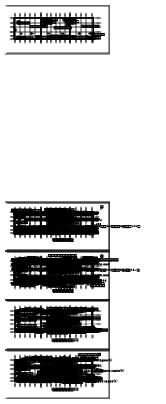door: (82, 190, 85, 192), (138, 171, 141, 173), (138, 170, 141, 172), (18, 119, 21, 121), (138, 69, 141, 71), (138, 70, 141, 72), (69, 171, 71, 173), (69, 170, 71, 172), (90, 171, 92, 173), (90, 170, 92, 172), (78, 190, 80, 192), (76, 190, 78, 192), (81, 190, 83, 192), (69, 70, 71, 72), (90, 70, 92, 72), (18, 170, 21, 171), (138, 121, 141, 122), (18, 69, 21, 70), (20, 170, 22, 171), (69, 121, 71, 122), (90, 121, 92, 122), (69, 69, 71, 70), (90, 69, 92, 70), (20, 69, 22, 70), (119, 137, 119, 138)
room: (136, 118, 143, 142), (14, 119, 24, 123), (72, 73, 75, 85), (68, 118, 74, 123), (77, 118, 83, 123), (66, 141, 75, 143), (122, 141, 128, 144), (85, 141, 94, 143), (33, 141, 38, 144), (73, 168, 78, 170), (24, 168, 28, 170), (133, 168, 137, 170), (83, 168, 87, 170), (19, 117, 23, 119), (138, 117, 142, 119), (105, 141, 111, 142), (25, 141, 30, 142), (50, 141, 55, 142), (131, 141, 136, 142), (68, 192, 72, 193), (89, 192, 93, 193), (90, 120, 92, 122), (90, 69, 92, 71), (90, 73, 92, 75), (82, 73, 84, 75), (77, 73, 79, 75), (99, 33, 101, 35), (99, 31, 101, 33), (74, 128, 76, 130), (81, 128, 83, 130), (26, 175, 29, 176), (29, 175, 32, 176), (32, 175, 35, 176), (43, 175, 46, 176), (46, 175, 49, 176), (49, 175, 52, 176), (26, 188, 29, 189), (29, 188, 32, 189), (32, 188, 35, 189), (43, 188, 46, 189), (46, 188, 49, 189), (49, 188, 52, 189), (129, 175, 132, 176), (126, 175, 129, 176), (123, 175, 126, 176), (114, 175, 117, 176), (109, 175, 112, 176), (106, 175, 109, 176), (129, 188, 132, 189), (126, 188, 129, 189), (123, 188, 126, 189), (114, 188, 117, 189), (109, 188, 112, 189), (106, 188, 109, 189), (73, 192, 76, 193), (36, 169, 39, 170), (40, 169, 43, 170), (87, 169, 90, 170), (77, 190, 80, 191), (81, 190, 84, 191), (19, 120, 22, 121), (67, 138, 70, 139), (91, 138, 94, 139), (16, 89, 19, 90), (35, 175, 37, 176), (52, 175, 54, 176), (35, 188, 37, 189), (52, 188, 54, 189), (16, 175, 18, 176), (18, 175, 20, 176), (16, 185, 18, 186), (18, 185, 20, 186), (132, 175, 134, 176), (112, 175, 114, 176), (132, 188, 134, 189), (112, 188, 114, 189), (69, 175, 71, 176), (76, 175, 78, 176), (63, 36, 65, 37), (61, 36, 63, 37), (95, 36, 97, 37), (97, 36, 99, 37), (99, 36, 101, 37), (83, 74, 85, 75), (76, 74, 78, 75), (71, 74, 73, 75), (74, 74, 76, 75), (69, 74, 71, 75), (59, 382, 60, 384), (101, 382, 102, 384), (19, 369, 21, 370), (90, 370, 92, 371), (85, 192, 87, 193), (14, 189, 15, 191), (71, 169, 73, 170), (78, 169, 80, 170), (67, 87, 68, 89), (70, 87, 71, 89), (93, 87, 94, 89), (90, 87, 91, 89), (90, 171, 92, 172), (19, 170, 21, 171), (69, 120, 70, 122), (139, 120, 140, 122), (41, 120, 42, 122), (69, 69, 70, 71), (20, 69, 22, 70), (139, 69, 140, 71), (41, 69, 42, 71), (69, 73, 70, 75), (81, 76, 83, 77), (81, 77, 83, 78), (81, 78, 83, 79), (81, 79, 83, 80), (81, 80, 83, 81), (74, 76, 76, 77), (74, 77, 76, 78), (74, 78, 76, 79), (74, 79, 76, 80), (74, 80, 76, 81), (74, 81, 76, 82), (67, 76, 69, 77), (67, 77, 69, 78), (67, 78, 69, 79), (67, 79, 69, 80), (67, 81, 69, 82), (67, 80, 69, 81), (74, 82, 76, 83), (88, 76, 90, 77), (88, 77, 90, 78), (88, 78, 90, 79), (88, 79, 90, 80), (88, 81, 90, 82), (88, 80, 90, 81), (64, 33, 65, 35), (60, 33, 61, 35), (64, 31, 65, 33), (60, 31, 61, 33), (96, 33, 97, 35), (96, 31, 97, 33), (78, 128, 79, 130), (85, 128, 86, 130), (89, 132, 90, 134), (81, 179, 83, 180), (81, 178, 83, 179), (74, 179, 76, 180), (74, 178, 76, 179), (73, 175, 75, 176), (89, 175, 91, 176), (83, 175, 85, 176), (85, 175, 87, 176), (89, 136, 91, 137), (82, 136, 84, 137), (91, 136, 93, 137), (70, 136, 72, 137), (76, 136, 78, 137), (68, 136, 70, 137), (80, 137, 82, 138), (80, 187, 82, 188), (33, 171, 34, 172), (33, 170, 34, 171), (48, 171, 49, 172), (48, 170, 49, 171), (127, 171, 128, 172), (127, 170, 128, 171), (111, 171, 112, 172), (111, 170, 112, 171), (98, 175, 99, 176), (99, 175, 100, 176), (48, 121, 49, 122), (48, 120, 49, 121), (111, 121, 112, 122), (111, 120, 112, 121), (17, 132, 18, 133), (18, 132, 19, 133), (62, 175, 63, 176), (61, 175, 62, 176), (90, 74, 91, 75), (85, 74, 86, 75), (60, 36, 61, 37), (88, 74, 89, 75), (59, 386, 60, 387), (101, 386, 102, 387), (23, 384, 24, 385), (49, 370, 50, 371), (77, 369, 78, 370), (89, 374, 90, 375), (139, 370, 140, 371), (69, 370, 70, 371), (69, 171, 70, 172), (139, 171, 140, 172), (78, 76, 79, 77), (78, 77, 79, 78), (78, 78, 79, 79), (78, 79, 79, 80), (78, 80, 79, 81), (85, 76, 86, 77), (85, 77, 86, 78), (85, 78, 86, 79), (85, 79, 86, 80), (85, 80, 86, 81), (85, 81, 86, 82), (71, 76, 72, 77), (71, 77, 72, 78), (71, 78, 72, 79), (71, 79, 72, 80), (71, 81, 72, 82), (71, 80, 72, 81), (92, 76, 93, 77), (92, 77, 93, 78), (92, 78, 93, 79), (92, 79, 93, 80), (92, 81, 93, 82), (92, 80, 93, 81), (67, 28, 68, 29), (67, 27, 68, 28), (67, 31, 68, 32), (92, 28, 93, 29), (92, 27, 93, 28), (92, 31, 93, 32), (85, 82, 86, 83), (78, 130, 79, 131), (71, 131, 72, 132), (71, 130, 72, 131), (71, 129, 72, 130), (71, 134, 72, 135), (71, 133, 72, 134), (75, 130, 76, 131), (68, 131, 69, 132), (68, 130, 69, 131), (68, 129, 69, 130), (68, 134, 69, 135), (68, 133, 69, 134), (82, 130, 83, 131), (85, 130, 86, 131), (89, 131, 90, 132), (89, 130, 90, 131), (89, 128, 90, 129), (89, 127, 90, 128), (78, 179, 79, 180), (78, 180, 79, 181), (78, 178, 79, 179), (71, 182, 72, 183), (71, 181, 72, 182), (71, 180, 72, 181), (71, 185, 72, 186), (71, 184, 72, 185), (82, 180, 83, 181), (75, 180, 76, 181), (68, 182, 69, 183), (68, 181, 69, 182), (68, 180, 69, 181), (68, 185, 69, 186), (68, 184, 69, 185), (85, 179, 86, 180), (85, 180, 86, 181), (85, 178, 86, 179), (89, 181, 90, 182), (89, 182, 90, 183), (89, 183, 90, 184), (89, 178, 90, 179), (89, 179, 90, 180), (79, 137, 80, 138), (79, 187, 80, 188), (26, 125, 29, 125), (29, 125, 32, 125), (32, 125, 35, 125), (35, 125, 37, 125), (43, 125, 46, 125), (46, 125, 49, 125), (49, 125, 52, 125), (52, 125, 54, 125), (26, 138, 29, 138), (29, 138, 32, 138), (32, 138, 35, 138), (35, 138, 37, 138), (43, 138, 46, 138), (46, 138, 49, 138), (49, 138, 52, 138), (52, 138, 54, 138), (132, 125, 134, 125), (129, 125, 132, 125), (126, 125, 129, 125), (123, 125, 126, 125), (114, 125, 117, 125), (112, 125, 114, 125), (109, 125, 112, 125), (106, 125, 109, 125), (132, 138, 134, 138), (129, 138, 132, 138), (126, 138, 129, 138), (123, 138, 126, 138), (114, 138, 117, 138), (112, 138, 114, 138), (109, 138, 112, 138), (106, 138, 109, 138), (89, 187, 91, 187), (82, 187, 84, 187), (62, 125, 63, 125), (61, 125, 62, 125), (98, 125, 99, 125), (99, 125, 100, 125), (62, 24, 63, 24), (61, 24, 62, 24), (75, 24, 77, 24), (71, 24, 73, 24), (96, 24, 97, 24), (97, 24, 98, 24), (84, 24, 86, 24), (87, 24, 90, 24), (111, 370, 111, 371), (138, 369, 138, 370), (138, 374, 138, 375), (71, 374, 71, 375), (17, 140, 20, 140), (68, 88, 70, 88), (90, 88, 93, 88), (78, 77, 79, 77), (78, 78, 79, 78), (78, 79, 79, 79), (78, 80, 79, 80), (81, 77, 83, 77), (81, 78, 83, 78), (81, 79, 83, 79), (81, 80, 83, 80), (74, 77, 76, 77), (74, 78, 76, 78), (74, 79, 76, 79), (74, 80, 76, 80), (74, 81, 76, 81), (74, 82, 76, 82), (74, 83, 76, 83), (85, 77, 86, 77), (85, 78, 86, 78), (85, 79, 86, 79), (85, 80, 86, 80), (85, 81, 86, 81), (85, 82, 86, 82), (85, 83, 86, 83), (67, 77, 69, 77), (67, 78, 69, 78), (67, 79, 69, 79), (67, 80, 69, 80), (71, 77, 72, 77), (71, 78, 72, 78), (71, 79, 72, 79), (71, 80, 72, 80), (67, 81, 69, 81), (71, 81, 72, 81), (92, 77, 93, 77), (92, 78, 93, 78), (92, 79, 93, 79), (92, 80, 93, 80), (88, 77, 90, 77), (88, 78, 90, 78), (88, 79, 90, 79), (88, 80, 90, 80), (92, 81, 93, 81), (88, 81, 90, 81), (67, 32, 68, 32), (92, 32, 93, 32), (78, 81, 79, 81), (81, 81, 83, 81), (78, 130, 79, 130), (78, 128, 79, 128), (74, 128, 76, 128), (75, 130, 76, 130), (82, 130, 83, 130), (81, 128, 83, 128), (85, 128, 86, 128), (85, 130, 86, 130), (92, 132, 92, 134), (92, 131, 92, 132), (92, 130, 92, 131), (92, 128, 92, 129), (92, 127, 92, 128), (78, 181, 79, 181), (82, 181, 83, 181), (92, 181, 92, 182), (92, 182, 92, 183), (92, 183, 92, 184), (92, 178, 92, 179), (92, 179, 92, 180), (75, 181, 76, 181), (85, 181, 86, 181), (91, 187, 93, 187), (70, 187, 72, 187), (76, 187, 78, 187), (68, 187, 70, 187), (69, 125, 71, 125), (76, 125, 78, 125), (73, 125, 75, 125), (89, 125, 91, 125), (83, 125, 85, 125), (85, 125, 87, 125)
shaft: (26, 85, 57, 89), (109, 87, 138, 90), (103, 74, 109, 87), (23, 74, 26, 85), (105, 70, 116, 72), (57, 78, 59, 87), (52, 70, 60, 72), (60, 38, 66, 40), (36, 170, 47, 171), (26, 188, 37, 189), (95, 78, 96, 87), (16, 72, 17, 78), (42, 183, 43, 188), (47, 183, 48, 188), (51, 183, 52, 188), (55, 183, 56, 188), (55, 177, 56, 182), (104, 126, 105, 131), (121, 126, 122, 131), (38, 126, 39, 131), (24, 126, 25, 131), (119, 126, 120, 131), (136, 126, 137, 131), (41, 126, 42, 131), (55, 126, 56, 131), (123, 183, 124, 188), (127, 183, 128, 188), (132, 183, 133, 188), (136, 183, 137, 188), (136, 177, 137, 182), (32, 71, 37, 72), (16, 86, 21, 87), (121, 133, 122, 137), (136, 133, 137, 137), (38, 133, 39, 137), (24, 133, 25, 137), (41, 133, 42, 137), (55, 133, 56, 137), (17, 78, 21, 79), (24, 71, 28, 72), (95, 71, 99, 72), (132, 69, 133, 72), (37, 69, 38, 72), (32, 136, 34, 137), (23, 69, 24, 71), (16, 71, 18, 72), (31, 69, 32, 71), (58, 75, 59, 77), (57, 87, 58, 89), (118, 69, 119, 71), (137, 69, 138, 71), (95, 75, 96, 77), (33, 91, 34, 93), (71, 18, 72, 20), (89, 18, 90, 20), (48, 177, 49, 178), (31, 186, 32, 187), (31, 177, 32, 178), (127, 136, 128, 137), (130, 136, 131, 137), (29, 136, 30, 137), (46, 136, 47, 137), (50, 136, 51, 137), (128, 177, 129, 178), (112, 186, 113, 187), (112, 177, 113, 178), (42, 175, 43, 176), (68, 175, 69, 176), (135, 175, 136, 176), (118, 175, 119, 176), (140, 175, 141, 176), (42, 124, 43, 125), (68, 124, 69, 125), (63, 138, 64, 139), (96, 138, 97, 139), (135, 124, 136, 125), (118, 124, 119, 125), (20, 86, 21, 87), (68, 74, 69, 75), (71, 69, 72, 70), (66, 74, 67, 75), (89, 69, 90, 70), (28, 71, 29, 72), (51, 69, 52, 70), (44, 89, 45, 90), (95, 89, 96, 90), (129, 71, 130, 72), (104, 69, 105, 70), (63, 37, 64, 38), (96, 37, 97, 38), (66, 23, 67, 24), (48, 182, 49, 182), (31, 182, 32, 182), (113, 127, 114, 127), (110, 127, 111, 127), (127, 127, 128, 127), (130, 127, 131, 127), (32, 127, 34, 127), (29, 127, 30, 127), (46, 127, 47, 127), (50, 127, 51, 127), (128, 182, 129, 182), (112, 182, 113, 182), (25, 175, 25, 176), (63, 189, 64, 189), (96, 189, 97, 189), (92, 175, 92, 176), (25, 124, 25, 125), (92, 124, 92, 125), (140, 125, 141, 125), (60, 118, 60, 119), (63, 88, 64, 88), (96, 88, 97, 88), (94, 74, 94, 75), (92, 74, 92, 75), (21, 72, 21, 90), (16, 69, 16, 71), (43, 69, 43, 72), (61, 73, 61, 75), (59, 87, 66, 87), (60, 87, 60, 89), (62, 87, 62, 89), (65, 87, 65, 88), (45, 90, 66, 90), (138, 71, 138, 72), (96, 87, 103, 87), (95, 73, 95, 75), (95, 72, 95, 73), (95, 69, 95, 71), (104, 68, 104, 68), (49, 68, 49, 68), (50, 91, 51, 91), (25, 91, 25, 91), (76, 91, 77, 91), (106, 91, 106, 91), (123, 91, 123, 93), (131, 91, 131, 91), (116, 69, 116, 72), (125, 69, 125, 72), (121, 69, 121, 71), (45, 69, 45, 72), (16, 79, 16, 82), (16, 83, 16, 84), (16, 84, 16, 86), (16, 87, 16, 88), (20, 36, 21, 36), (94, 23, 94, 24)
staircase: (150, 194, 153, 196), (150, 144, 153, 146), (146, 43, 149, 45)
wall: (15, 17, 141, 43), (15, 68, 141, 93), (136, 118, 143, 142), (14, 118, 19, 139), (85, 73, 89, 85), (138, 176, 140, 192), (14, 141, 25, 142), (76, 141, 85, 142), (48, 118, 57, 119), (19, 117, 23, 119), (138, 117, 142, 119), (104, 118, 112, 119), (141, 119, 142, 126), (141, 369, 142, 375), (141, 170, 142, 176), (141, 170, 142, 173), (141, 119, 142, 122), (23, 121, 25, 122), (130, 369, 132, 370), (29, 369, 31, 370), (81, 371, 83, 372), (81, 369, 83, 370), (78, 371, 80, 372), (73, 369, 74, 371), (141, 370, 142, 372), (130, 170, 132, 171), (29, 170, 31, 171), (81, 172, 83, 173), (81, 170, 83, 171), (78, 171, 80, 172), (130, 120, 132, 121), (29, 120, 31, 121), (81, 121, 83, 122), (81, 120, 83, 121), (78, 121, 80, 122), (130, 69, 132, 70), (29, 69, 31, 70), (81, 71, 83, 72), (81, 69, 83, 70), (78, 70, 80, 71), (130, 19, 132, 20), (29, 19, 31, 20), (81, 20, 83, 21), (81, 19, 83, 20), (78, 20, 80, 21), (31, 170, 32, 171), (50, 171, 51, 172), (118, 171, 119, 172), (116, 171, 117, 172), (115, 171, 116, 172), (117, 171, 118, 172), (114, 171, 115, 172), (119, 171, 120, 172), (113, 171, 114, 172), (123, 171, 124, 172), (122, 171, 123, 172), (121, 171, 122, 172), (120, 171, 121, 172), (20, 386, 21, 387), (42, 374, 43, 375), (68, 374, 69, 375), (135, 374, 136, 375), (118, 374, 119, 375), (140, 374, 141, 375), (100, 386, 101, 387), (110, 370, 111, 371), (138, 369, 139, 370), (138, 374, 139, 375), (44, 374, 45, 375), (133, 374, 134, 375), (116, 374, 117, 375), (92, 117, 93, 118), (73, 117, 74, 118), (68, 117, 69, 118), (87, 117, 88, 118), (80, 117, 81, 118), (13, 141, 14, 142), (55, 27, 56, 28), (75, 83, 76, 84), (89, 82, 90, 83), (67, 26, 68, 27), (67, 30, 68, 31), (67, 32, 68, 33), (92, 26, 93, 27), (92, 30, 93, 31), (92, 32, 93, 33), (62, 29, 63, 30), (62, 28, 63, 29), (58, 29, 59, 30), (58, 28, 59, 29), (95, 29, 96, 30), (95, 28, 96, 29), (99, 29, 100, 30), (99, 28, 100, 29), (61, 386, 62, 387), (61, 385, 62, 386), (98, 386, 99, 387), (98, 385, 99, 386), (92, 25, 93, 26), (78, 131, 79, 132), (78, 132, 79, 133), (78, 133, 79, 134), (78, 134, 79, 135), (71, 132, 72, 133), (75, 131, 76, 132), (75, 132, 76, 133), (75, 133, 76, 134), (75, 134, 76, 135), (71, 128, 72, 129), (68, 132, 69, 133), (68, 128, 69, 129), (82, 131, 83, 132), (82, 132, 83, 133), (82, 133, 83, 134), (82, 134, 83, 135), (85, 131, 86, 132), (85, 132, 86, 133), (85, 133, 86, 134), (85, 134, 86, 135), (75, 126, 76, 127), (92, 129, 93, 130), (92, 134, 93, 135), (89, 129, 90, 130), (89, 134, 90, 135), (78, 181, 79, 182), (78, 182, 79, 183), (78, 183, 79, 184), (78, 184, 79, 185), (78, 185, 79, 186), (85, 177, 86, 178), (71, 183, 72, 184), (71, 179, 72, 180), (71, 178, 72, 179), (82, 181, 83, 182), (82, 182, 83, 183), (82, 183, 83, 184), (82, 184, 83, 185), (82, 185, 83, 186), (75, 181, 76, 182), (75, 182, 76, 183), (75, 183, 76, 184), (75, 184, 76, 185), (75, 185, 76, 186), (75, 177, 76, 178), (68, 183, 69, 184), (68, 179, 69, 180), (68, 178, 69, 179), (85, 181, 86, 182), (85, 182, 86, 183), (85, 183, 86, 184), (85, 184, 86, 185), (85, 185, 86, 186), (89, 180, 90, 181), (89, 184, 90, 185), (89, 185, 90, 186), (71, 127, 72, 128), (68, 127, 69, 128), (129, 170, 129, 171), (110, 171, 110, 172), (119, 171, 119, 172), (118, 171, 118, 172), (117, 171, 117, 172), (115, 171, 115, 172), (114, 171, 114, 172), (120, 171, 120, 172), (124, 171, 124, 172), (122, 171, 122, 172), (123, 171, 123, 172), (121, 171, 121, 172), (25, 374, 25, 375), (63, 388, 64, 388), (92, 374, 92, 375), (96, 388, 97, 388), (60, 386, 60, 387), (60, 383, 60, 383), (100, 383, 101, 383), (23, 384, 23, 385), (50, 370, 50, 371), (78, 369, 78, 370), (73, 369, 73, 370), (73, 370, 73, 371), (88, 369, 88, 370), (88, 370, 88, 371), (87, 369, 87, 371), (27, 374, 27, 375), (141, 372, 141, 374), (141, 170, 141, 172), (141, 173, 141, 175), (141, 119, 141, 122), (141, 122, 141, 125), (136, 124, 136, 124), (136, 174, 136, 175), (75, 84, 76, 84), (85, 84, 85, 84), (85, 83, 85, 84), (71, 83, 71, 83), (71, 82, 71, 83), (89, 83, 90, 83), (67, 27, 68, 27), (67, 30, 68, 30), (67, 33, 68, 33), (67, 26, 68, 26), (92, 27, 93, 27), (92, 30, 93, 30), (92, 33, 93, 33), (92, 26, 93, 26), (65, 29, 65, 30), (65, 28, 65, 29), (65, 28, 65, 28), (62, 28, 63, 28), (61, 29, 61, 30), (61, 28, 61, 29), (61, 28, 61, 28), (58, 28, 59, 28), (95, 28, 96, 28), (98, 29, 98, 30), (98, 28, 98, 29), (98, 28, 98, 28), (99, 28, 100, 28), (102, 29, 102, 30), (102, 28, 102, 29), (102, 28, 102, 28), (61, 385, 62, 385), (61, 384, 62, 384), (98, 385, 99, 385), (98, 384, 99, 384), (68, 25, 68, 26), (68, 25, 68, 25), (92, 25, 93, 25), (78, 132, 79, 132), (78, 133, 79, 133), (78, 134, 79, 134), (78, 135, 79, 135), (71, 133, 72, 133), (75, 132, 76, 132), (75, 133, 76, 133), (75, 134, 76, 134), (75, 135, 76, 135), (71, 129, 72, 129), (71, 128, 72, 128), (68, 133, 69, 133), (68, 129, 69, 129), (68, 128, 69, 128), (82, 132, 83, 132), (82, 133, 83, 133), (82, 134, 83, 134), (82, 135, 83, 135), (85, 132, 86, 132), (85, 133, 86, 133), (85, 134, 86, 134), (85, 135, 86, 135), (75, 127, 76, 127), (85, 127, 85, 127), (85, 126, 85, 127), (92, 130, 93, 130), (92, 135, 93, 135), (92, 134, 93, 134), (89, 130, 90, 130), (89, 135, 90, 135), (89, 134, 90, 134), (78, 183, 79, 183), (78, 184, 79, 184), (78, 185, 79, 185), (85, 177, 86, 177), (71, 183, 72, 183), (71, 179, 72, 179), (71, 178, 72, 178), (82, 183, 83, 183), (82, 184, 83, 184), (82, 185, 83, 185), (92, 180, 92, 180), (92, 180, 92, 181), (92, 184, 92, 184), (92, 184, 92, 185), (92, 185, 92, 185), (92, 185, 92, 186), (75, 183, 76, 183), (75, 184, 76, 184), (75, 185, 76, 185), (75, 177, 76, 177), (68, 183, 69, 183), (68, 179, 69, 179), (68, 178, 69, 178), (85, 183, 86, 183), (85, 184, 86, 184), (85, 185, 86, 185), (89, 180, 90, 180), (89, 184, 90, 184), (89, 185, 90, 185)
window: (60, 25, 62, 27), (33, 18, 36, 19), (64, 25, 65, 27), (62, 25, 63, 27), (96, 25, 97, 27), (97, 25, 98, 27), (99, 25, 100, 27), (97, 18, 99, 19), (125, 18, 127, 19), (59, 26, 60, 27), (101, 26, 102, 27), (15, 172, 16, 173), (15, 121, 16, 122), (76, 20, 77, 21), (58, 25, 58, 26), (58, 25, 58, 25), (58, 24, 58, 25), (58, 24, 58, 24), (103, 25, 103, 26), (103, 25, 103, 25), (103, 24, 103, 25), (103, 24, 103, 24), (23, 172, 23, 173), (23, 121, 23, 122)
